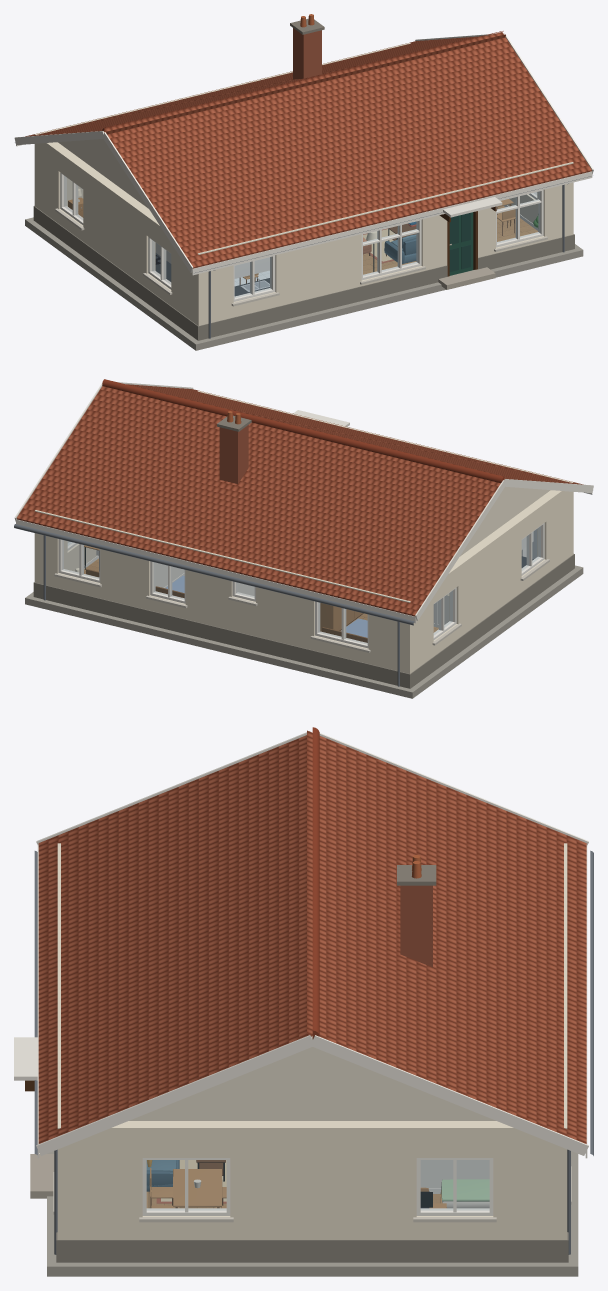
The model's file is architecture_house.glb.
3 renders of one model, top to bottom at view 1: azimuth 30°, elevation 25°; view 2: azimuth 150°, elevation 25°; view 3: azimuth 270°, elevation 25°, orthographic. The views are drawn at different scales.
Visible parts, largest first — view 1: roof_tiles, ext_geo, plinth_geo, roof_trim, slab_geo, window_frames, window_glass, doors_geo, room_living_furniture, room_kitchen_furniture, room_living_floor; view 2: roof_tiles, ext_geo, roof_trim, plinth_geo, slab_geo, window_frames, window_glass, room_bedroom_1_furniture, int_geo; view 3: roof_tiles, ext_geo, roof_trim, plinth_geo, slab_geo, window_glass, window_frames, room_living_furniture, doors_geo, room_bedroom_3_furniture, int_geo.
Part boxes in pixels (bbox=[...]): roof_tiles: bbox=[25, 32, 591, 268]; ext_geo: bbox=[34, 43, 573, 325]; plinth_geo: bbox=[33, 206, 574, 340]; roof_trim: bbox=[14, 14, 593, 338]; slab_geo: bbox=[25, 217, 583, 350]; window_frames: bbox=[55, 172, 547, 306]; window_glass: bbox=[64, 176, 539, 297]; doors_geo: bbox=[438, 197, 502, 289]; room_living_furniture: bbox=[363, 199, 538, 271]; room_kitchen_furniture: bbox=[155, 243, 269, 296]; room_living_floor: bbox=[363, 206, 537, 274]; roof_tiles: bbox=[16, 384, 583, 616]; ext_geo: bbox=[34, 391, 573, 673]; roof_trim: bbox=[14, 379, 593, 686]; plinth_geo: bbox=[33, 554, 574, 688]; slab_geo: bbox=[25, 565, 583, 698]; window_frames: bbox=[54, 523, 549, 652]; window_glass: bbox=[63, 527, 540, 643]; room_bedroom_1_furniture: bbox=[320, 593, 449, 642]; int_geo: bbox=[155, 562, 449, 624]; roof_tiles: bbox=[38, 730, 586, 1143]; ext_geo: bbox=[57, 843, 567, 1239]; roof_trim: bbox=[34, 727, 593, 1254]; plinth_geo: bbox=[56, 1232, 568, 1262]; slab_geo: bbox=[47, 1151, 578, 1276]; window_glass: bbox=[147, 1160, 488, 1209]; window_frames: bbox=[53, 1158, 571, 1222]; room_living_furniture: bbox=[146, 1160, 226, 1208]; doors_geo: bbox=[14, 1037, 54, 1198]; room_bedroom_3_furniture: bbox=[420, 1179, 489, 1208]; int_geo: bbox=[420, 1160, 489, 1188].
Bounding box in the file's own units: 13.17 × 6 × 10.58.
Materials: 7 (3 with a texture image).
